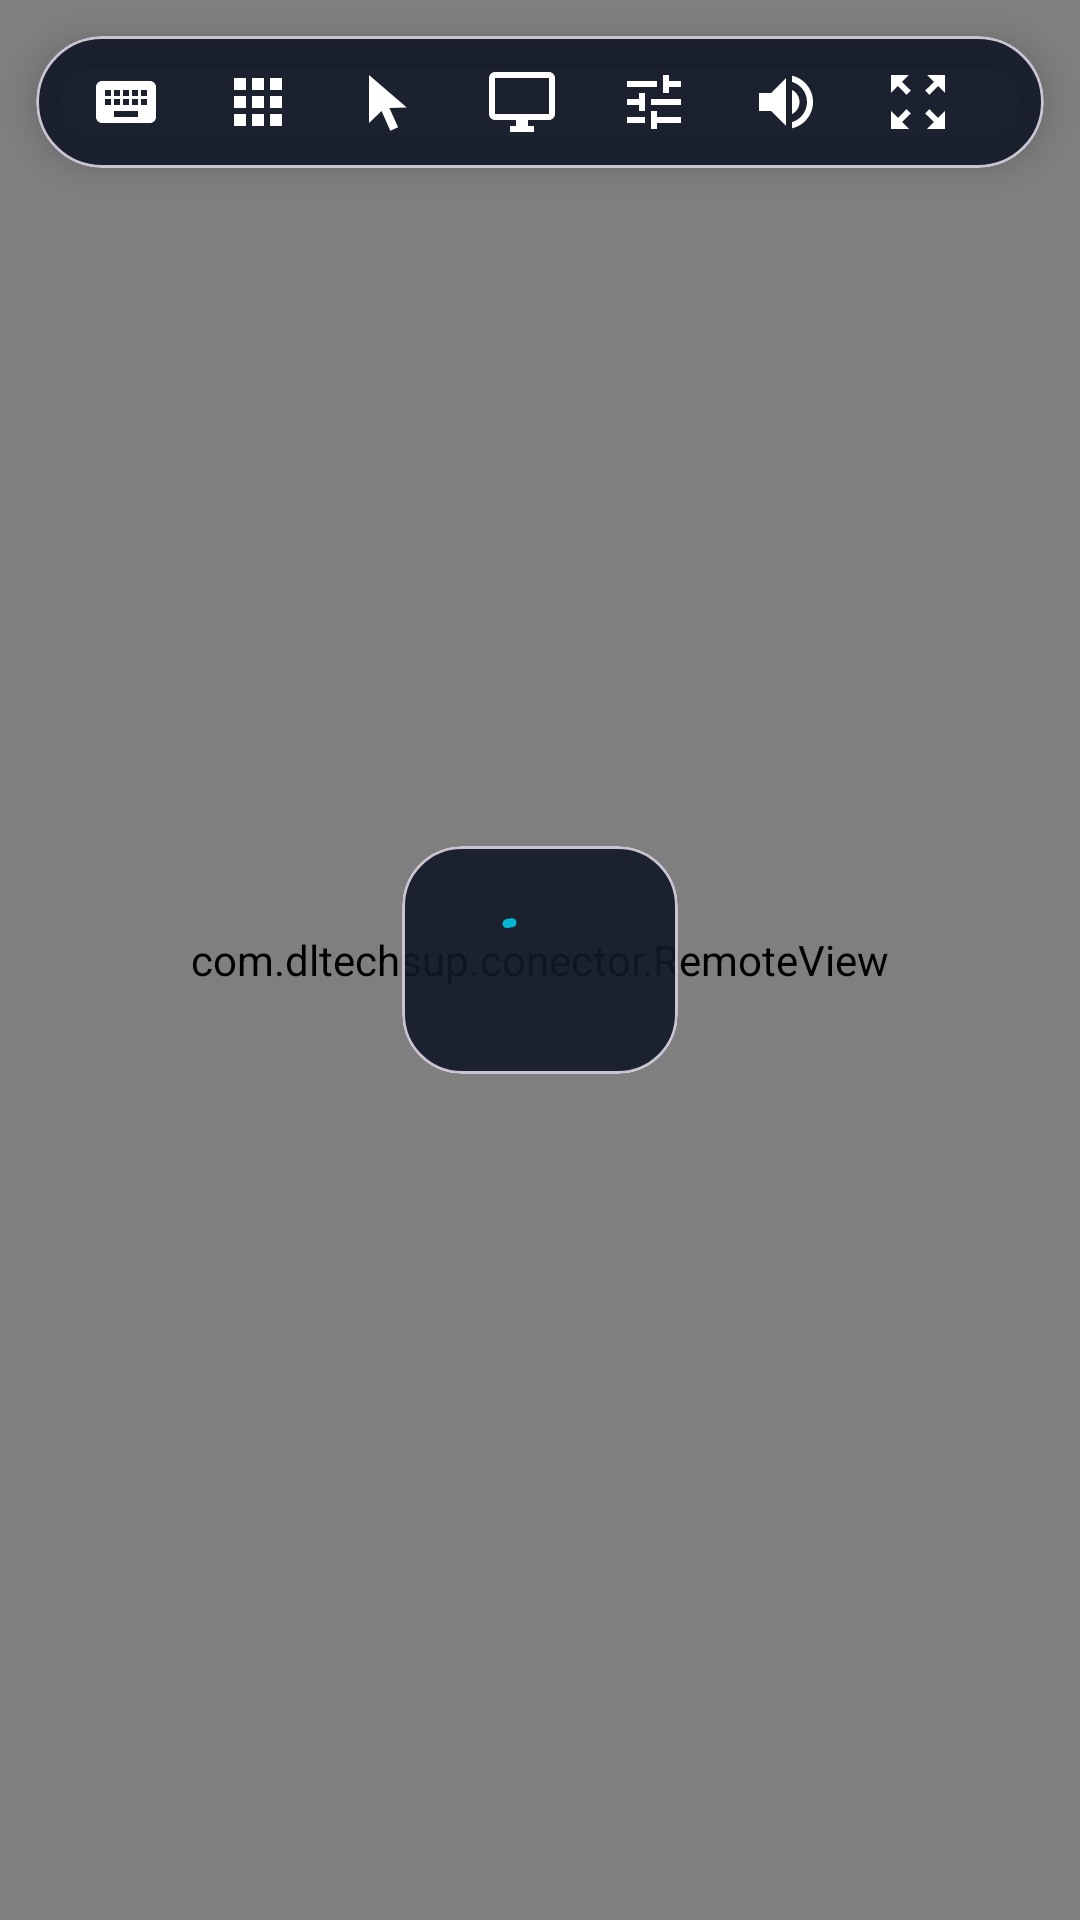

Point at icon controls on the screen. Image size 1080w x 1920h, points as point (x, y).
Ajustar à tela (zoom 1x): point (918, 102)
Modo de toque: point (390, 102)
Qualidade: point (654, 102)
Teclado: point (126, 102)
Teclas e atalhos: point (258, 102)
Trocar monitor: point (522, 102)
Áudio do PC: point (786, 102)
